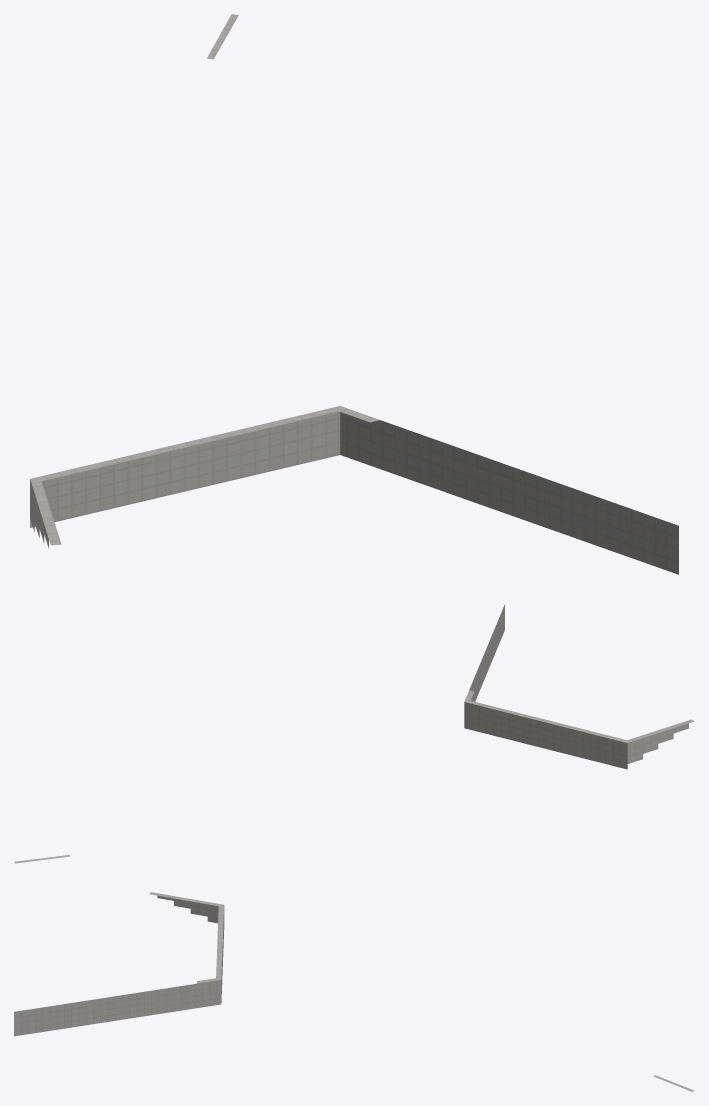
The model's file is kd_stage_13612f_5_29_bounded.glb.
The picture shows the model from 3 angles, top to bottom: view 1: azimuth 30°, elevation 25°; view 2: azimuth 150°, elevation 25°; view 3: azimuth 270°, elevation 25°; orthographic projection. The views are drawn at different scales.
Parts seen in each view (by area): view 1: kd_stage_13612f_5_29_bounded; view 2: kd_stage_13612f_5_29_bounded; view 3: kd_stage_13612f_5_29_bounded.
Part boxes in pixels (x1,y1,x2,y2): kd_stage_13612f_5_29_bounded: [30, 14, 678, 574]; kd_stage_13612f_5_29_bounded: [14, 604, 694, 863]; kd_stage_13612f_5_29_bounded: [14, 892, 694, 1091].
Bounding box in the file's own units: 11.66 × 0.7508 × 18.86.
1 material, 1 textured.
